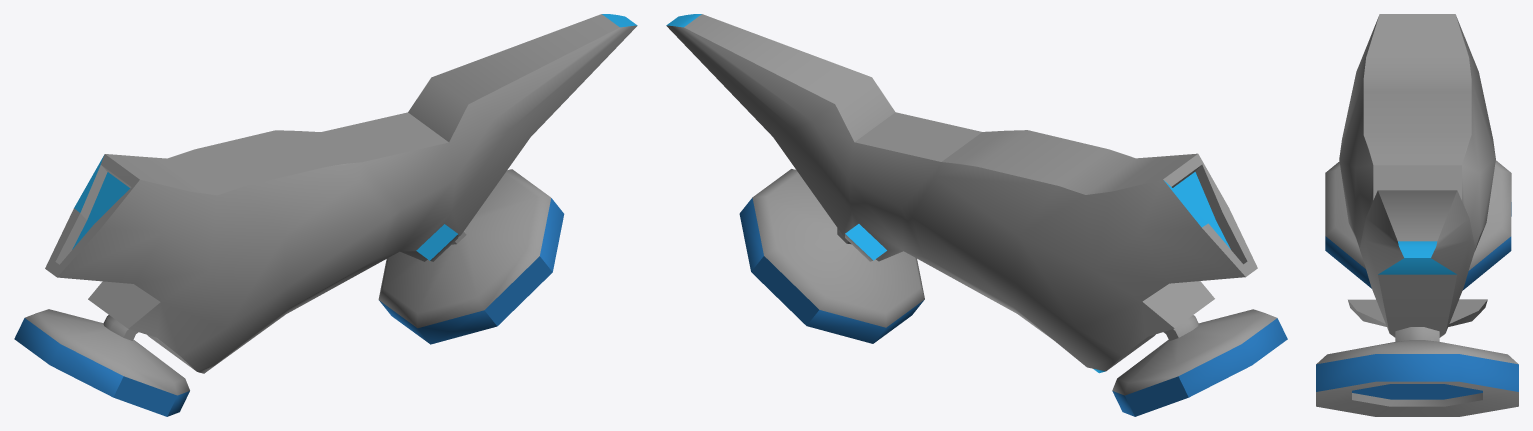
File: bike.fbx
The picture shows the model from 3 angles, left to right: view 1: azimuth 30°, elevation 25°; view 2: azimuth 150°, elevation 25°; view 3: azimuth 270°, elevation 25°; orthographic projection. The views are drawn at different scales.
Visible parts, largest first — view 1: bike; view 2: bike; view 3: bike.
Part boxes in pixels (bbox=[...]): bike: bbox=[14, 14, 637, 416]; bike: bbox=[666, 14, 1287, 416]; bike: bbox=[1316, 14, 1518, 416].
Size of the model in its own units: 3.22 by 1.38 by 0.8782.
Materials: 3 (1 with a texture image).
